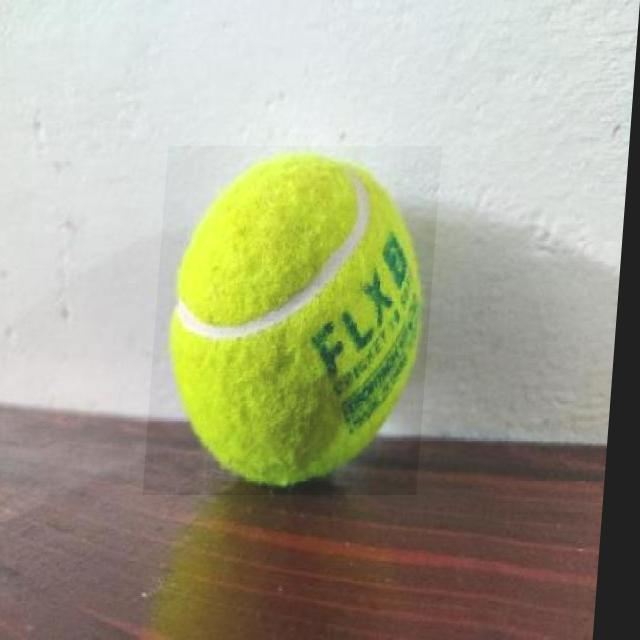-: (150, 146, 444, 495)
